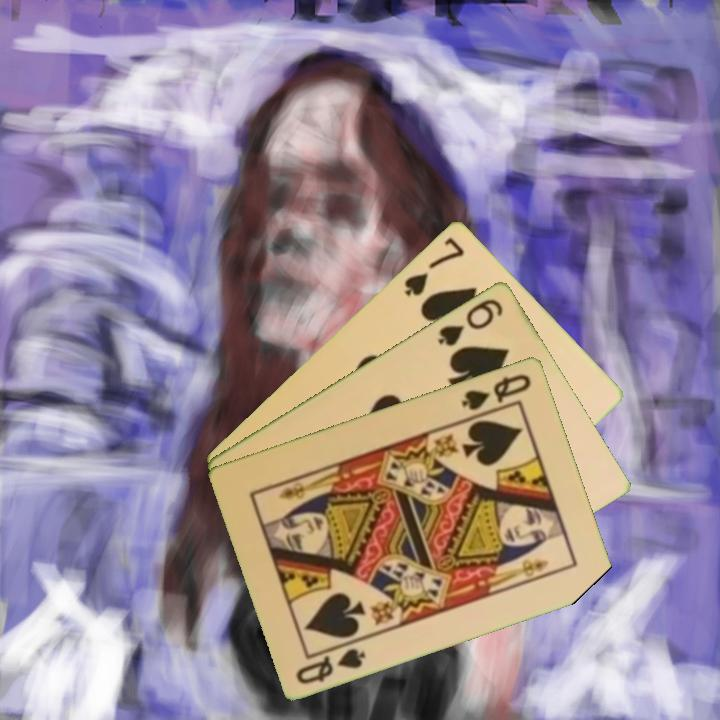6s: (434, 294, 507, 349)
7s: (400, 233, 468, 299)
Qs: (292, 636, 369, 687), (458, 370, 534, 413)
